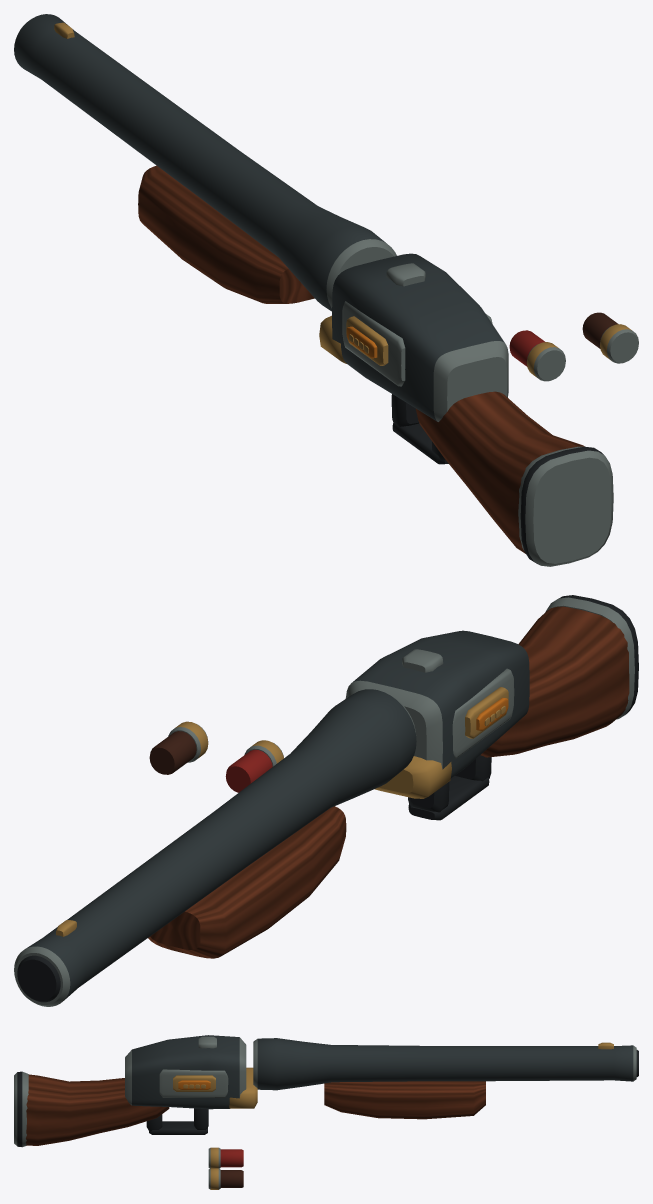
File: LanternVisual.glb
The picture shows the model from 3 angles, top to bottom: view 1: azimuth 30°, elevation 25°; view 2: azimuth 150°, elevation 25°; view 3: azimuth 270°, elevation 25°; orthographic projection. The views are drawn at different scales.
Visible parts, largest first — view 1: BarrelProfile, Receiver, Stock, Forend, ButtPad, SidePlate_L, SpentCaseRim, LiveRoundRim, TriggerGuard, BadgeFrame_L; view 2: BarrelProfile, Stock, Receiver, Forend, ButtPad, HingeCover, SidePlate_L, MuzzleAccent, SpentCasePaper, TriggerGuard, LiveRoundPaper, BadgeFrame_L (+4 smaller); view 3: BarrelProfile, Stock, Receiver, Forend, SidePlate_R, ButtPad, HingeCover, TriggerGuard, LiveRoundPaper, BadgeFrame_R, SpentCasePaper, GuardFront (+3 smaller).
Boxes of the visible parts, x1=… form: BarrelProfile: x1=14, y1=14, x2=396, y2=311; Receiver: x1=332, y1=253, x2=508, y2=421; Stock: x1=415, y1=391, x2=584, y2=553; Forend: x1=138, y1=165, x2=314, y2=303; ButtPad: x1=518, y1=446, x2=613, y2=566; SidePlate_L: x1=342, y1=301, x2=405, y2=386; SpentCaseRim: x1=600, y1=324, x2=638, y2=363; LiveRoundRim: x1=527, y1=342, x2=565, y2=381; TriggerGuard: x1=392, y1=423, x2=448, y2=464; BadgeFrame_L: x1=346, y1=316, x2=388, y2=365; BarrelProfile: x1=14, y1=689, x2=416, y2=1006; Stock: x1=480, y1=606, x2=629, y2=757; Receiver: x1=345, y1=630, x2=529, y2=778; Forend: x1=148, y1=806, x2=346, y2=958; ButtPad: x1=545, y1=595, x2=638, y2=719; HingeCover: x1=374, y1=756, x2=451, y2=798; SidePlate_L: x1=452, y1=668, x2=514, y2=758; MuzzleAccent: x1=17, y1=955, x2=60, y2=1002; SpentCasePaper: x1=149, y1=731, x2=196, y2=774; TriggerGuard: x1=408, y1=776, x2=489, y2=820; LiveRoundPaper: x1=225, y1=749, x2=272, y2=792; BadgeFrame_L: x1=465, y1=687, x2=508, y2=738; BarrelProfile: x1=253, y1=1038, x2=636, y2=1090; Stock: x1=26, y1=1074, x2=169, y2=1145; Receiver: x1=125, y1=1035, x2=246, y2=1109; Forend: x1=324, y1=1081, x2=485, y2=1119; SidePlate_R: x1=159, y1=1069, x2=228, y2=1097; ButtPad: x1=14, y1=1071, x2=28, y2=1147; HingeCover: x1=229, y1=1067, x2=257, y2=1108; TriggerGuard: x1=149, y1=1121, x2=207, y2=1134; LiveRoundPaper: x1=220, y1=1149, x2=243, y2=1167; BadgeFrame_R: x1=173, y1=1075, x2=215, y2=1091; SpentCasePaper: x1=220, y1=1170, x2=243, y2=1187; GuardFront: x1=194, y1=1108, x2=208, y2=1130.
Size of the model in its own units: 0.8055 by 0.4585 by 2.54.
Materials: 8 (1 with a texture image).
